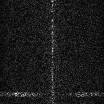wifi: (1, 91, 104, 95)
